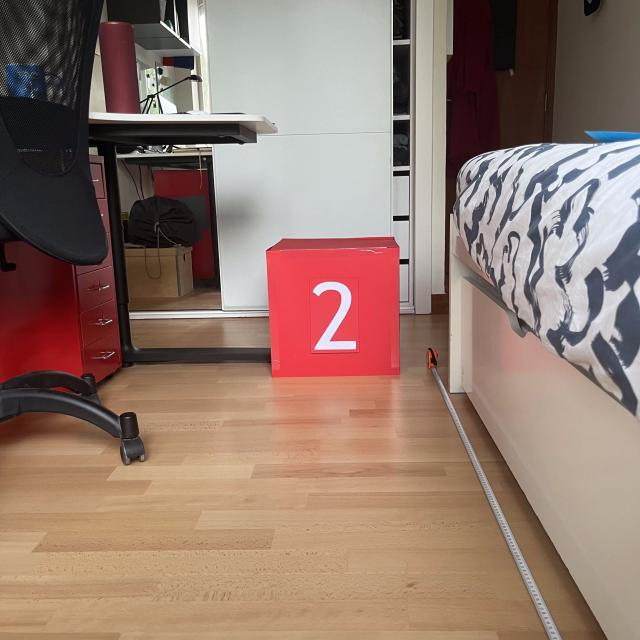box: (262, 233, 404, 379)
